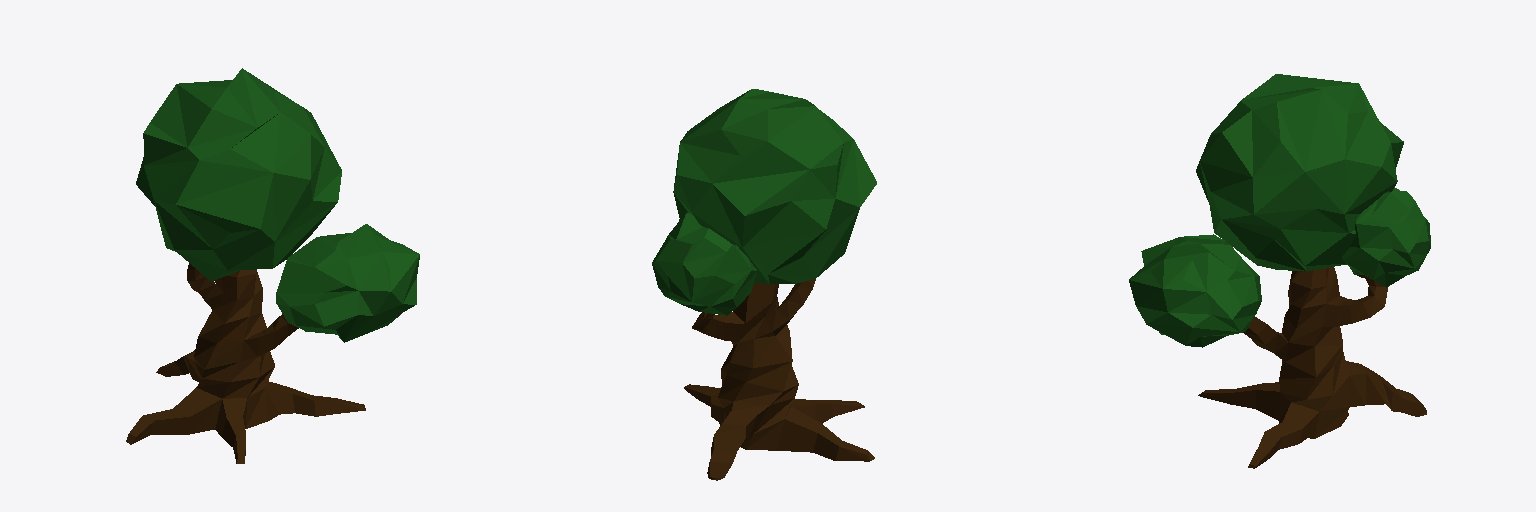
Rendered from pohongede.obj.
3 views of the same model, side by side, from view 1: azimuth 30°, elevation 25°; view 2: azimuth 150°, elevation 25°; view 3: azimuth 270°, elevation 25° (orthographic).
Parts seen in each view (by area): view 1: Node; view 2: Node; view 3: Node.
Boxes of the visible parts, <box> form: Node: <box>126,68,419,463</box>; Node: <box>652,89,876,480</box>; Node: <box>1129,74,1430,468</box>.
Bounding box in the file's own units: 96.41 × 135 × 109.